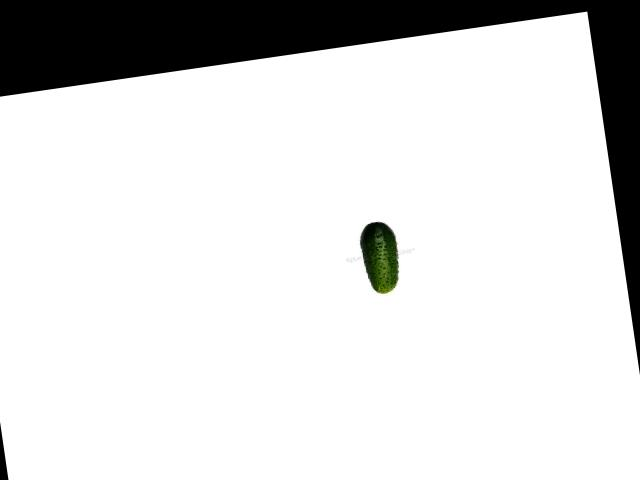cucumber: (357, 218, 404, 296)
